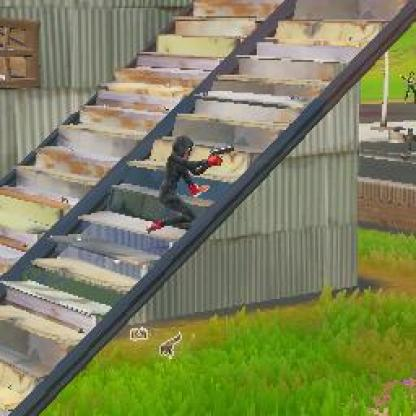dumpster: (146, 136, 224, 236)
